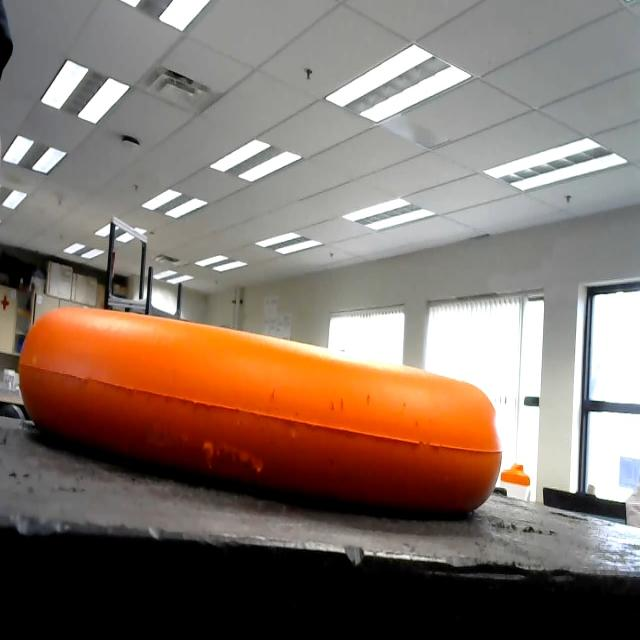note: (18, 278, 514, 558)
